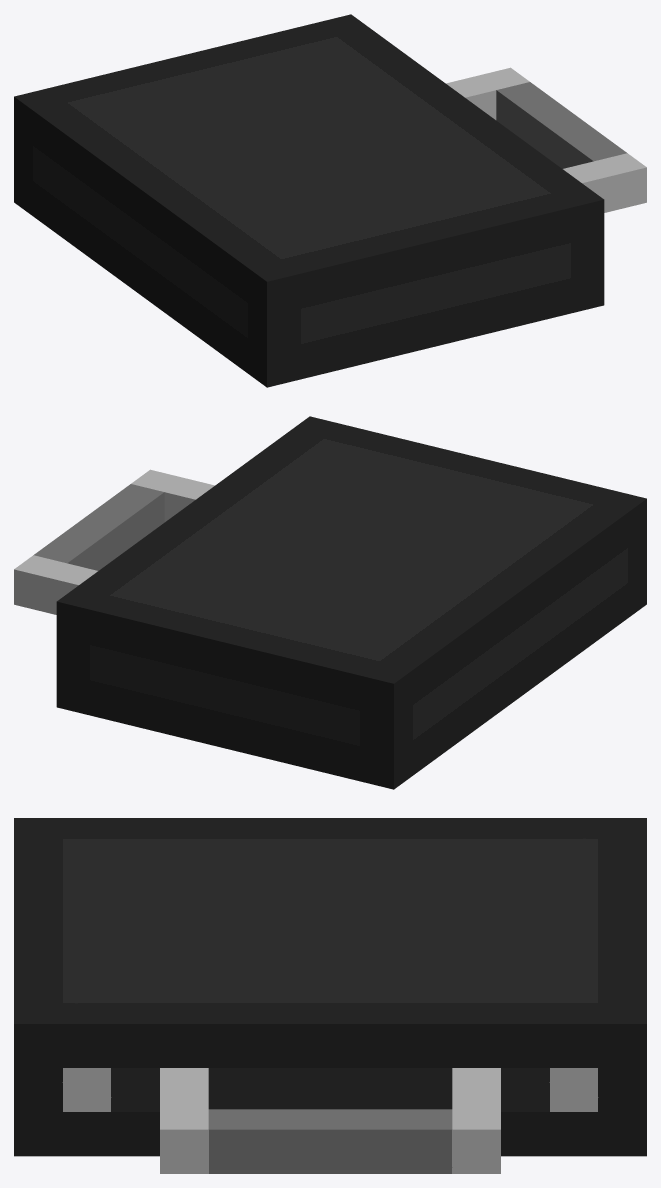
Rendered from briefcase_black.fbx.
3 views of the same model, one above another, from view 1: azimuth 30°, elevation 25°; view 2: azimuth 150°, elevation 25°; view 3: azimuth 270°, elevation 25° (orthographic). The views are drawn at different scales.
Visible parts, largest first — view 1: briefcase_black; view 2: briefcase_black; view 3: briefcase_black.
Part boxes in pixels (x1,y1,x2,y2): briefcase_black: (14, 14, 646, 387); briefcase_black: (14, 416, 646, 789); briefcase_black: (14, 818, 646, 1173).
Size of the model in its own units: 13 by 3 by 13.
